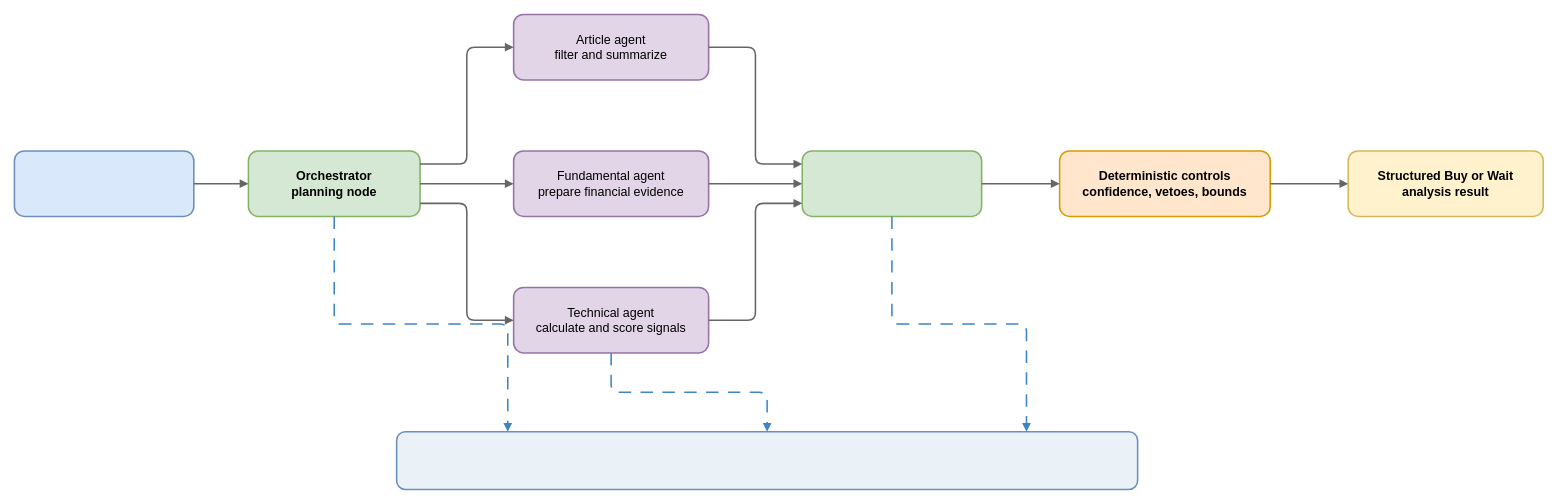
This 1557x503 diagram has some shape labels left out. Here are the shapes that lost their labels. From the top down, the centre of each, then its label:
(x=103, y=183): Symbol, mode, horizon, selection, and weights
(x=891, y=183): Aggregator structured synthesis
(x=766, y=460): Shared AgentState: plan, source results, final output, and error
